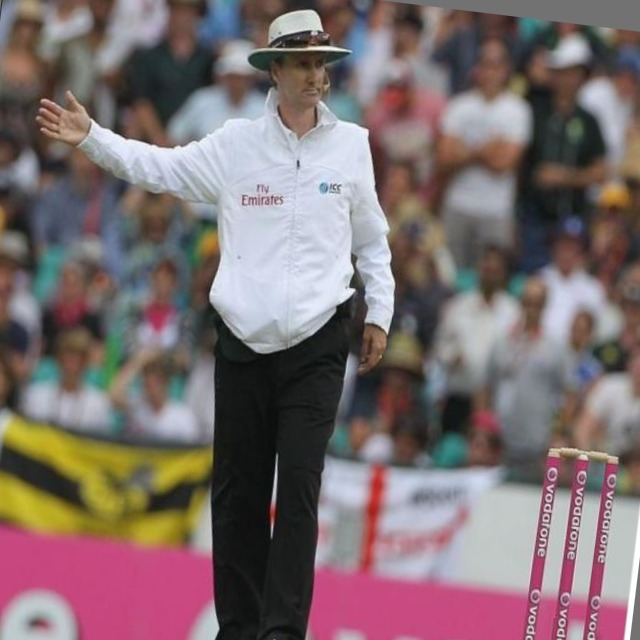No_Ball: (0, 0, 452, 640)
